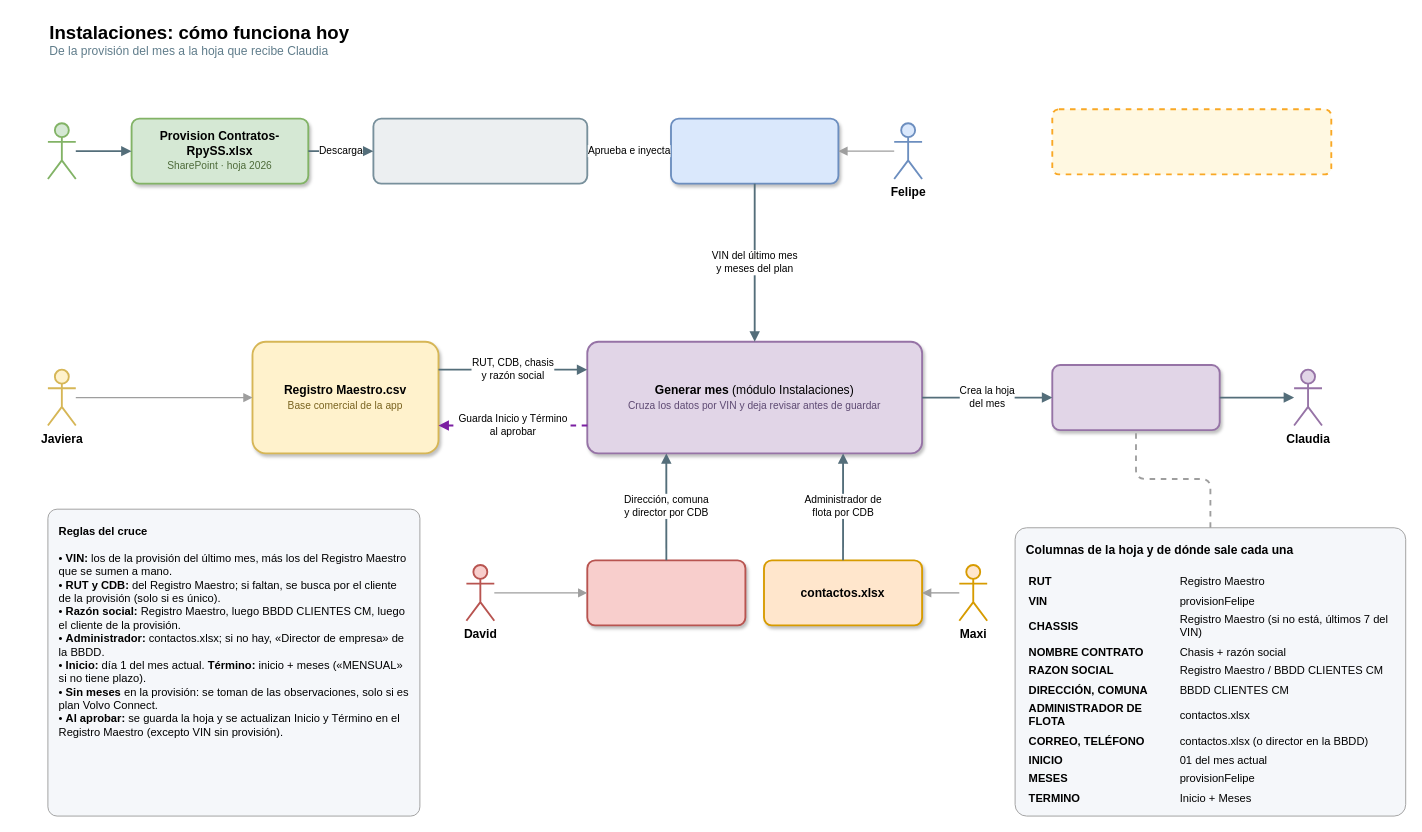
Image size: 1422x832. Some labels were removed from this diagram. The shapes that lost their labels are listed below. From the top down, each one's centre as x and y in pixels, then its label:
(61,150): Christian Reyes
(480,150): Sincronización con SharePoint La app descarga, transforma y previsualiza
(755,152): provisionFelipe.xlsx hoja Prov
(1191,141): Todos los archivos viven en una misma carpeta de datos
(1136,398): Instalaciones.xlsx Una hoja por mes
(666,593): BBDD CLIENTES CM.xlsx
